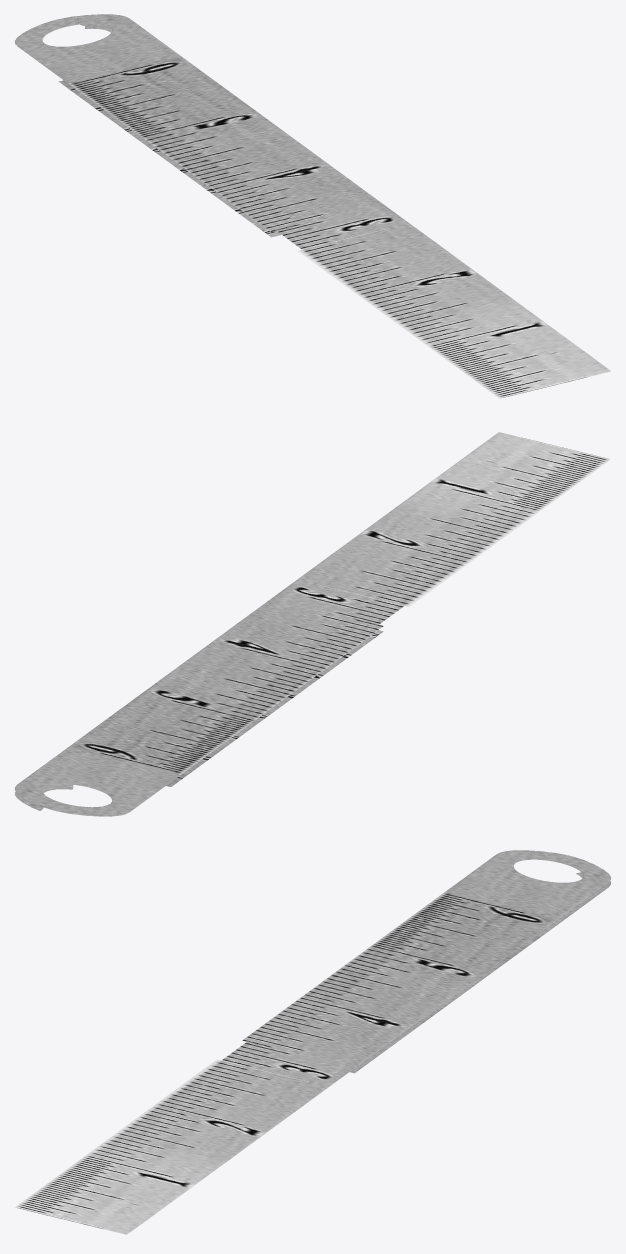
Rendered from Ruler_inches.fbx.
3 renders of one model, top to bottom at view 1: azimuth 30°, elevation 25°; view 2: azimuth 150°, elevation 25°; view 3: azimuth 330°, elevation 25°, orthographic.
Parts seen in each view (by area): view 1: Ruler_inches; view 2: Ruler_inches; view 3: Ruler_inches.
Boxes of the visible parts, bbox=[...] form: Ruler_inches: bbox=[14, 14, 610, 398]; Ruler_inches: bbox=[14, 432, 610, 816]; Ruler_inches: bbox=[15, 850, 611, 1234].
Bounding box in the file's own units: 2.38 × 0.1081 × 18.02.
1 material, 1 textured.
